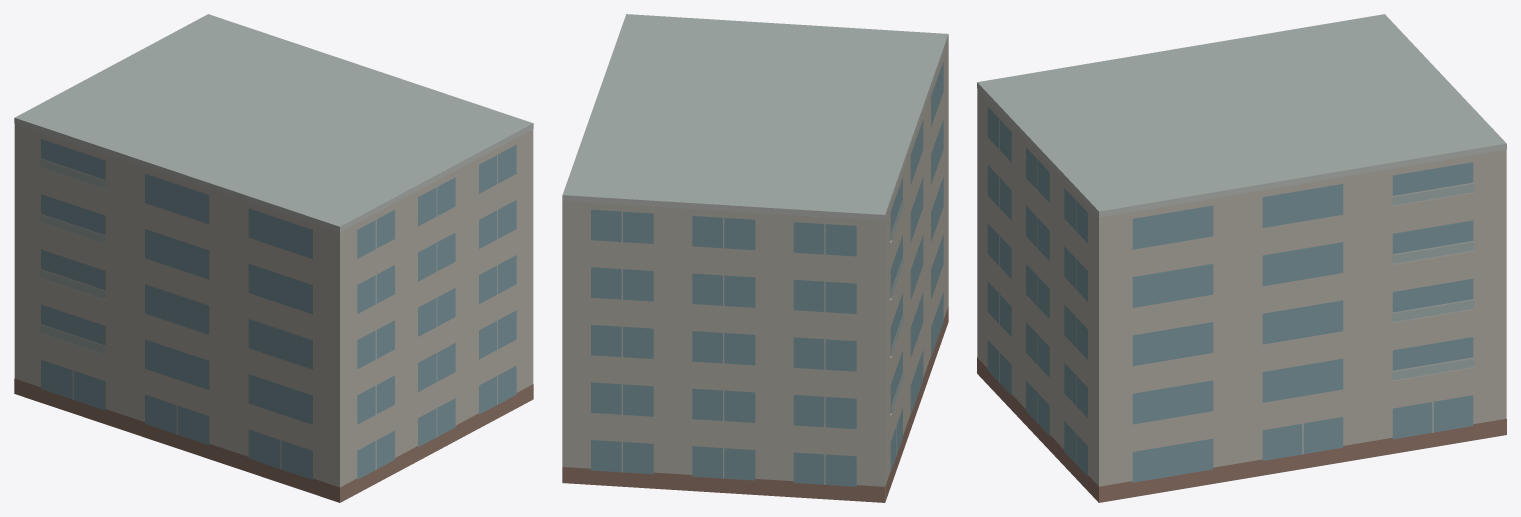
The model's file is survey-upis-32932193.glb.
3 views of the same model, side by side, from view 1: azimuth 30°, elevation 25°; view 2: azimuth 150°, elevation 25°; view 3: azimuth 270°, elevation 25° (orthographic). The views are drawn at different scales.
Parts seen in each view (by area): view 1: survey-upis-32932193.tmp; view 2: survey-upis-32932193.tmp; view 3: survey-upis-32932193.tmp.
Part boxes in pixels (x1,y1,x2,y2): survey-upis-32932193.tmp: (14, 14, 533, 502); survey-upis-32932193.tmp: (562, 14, 948, 502); survey-upis-32932193.tmp: (977, 14, 1506, 502).
Size of the model in its own units: 17.24 by 11.85 by 19.53.
